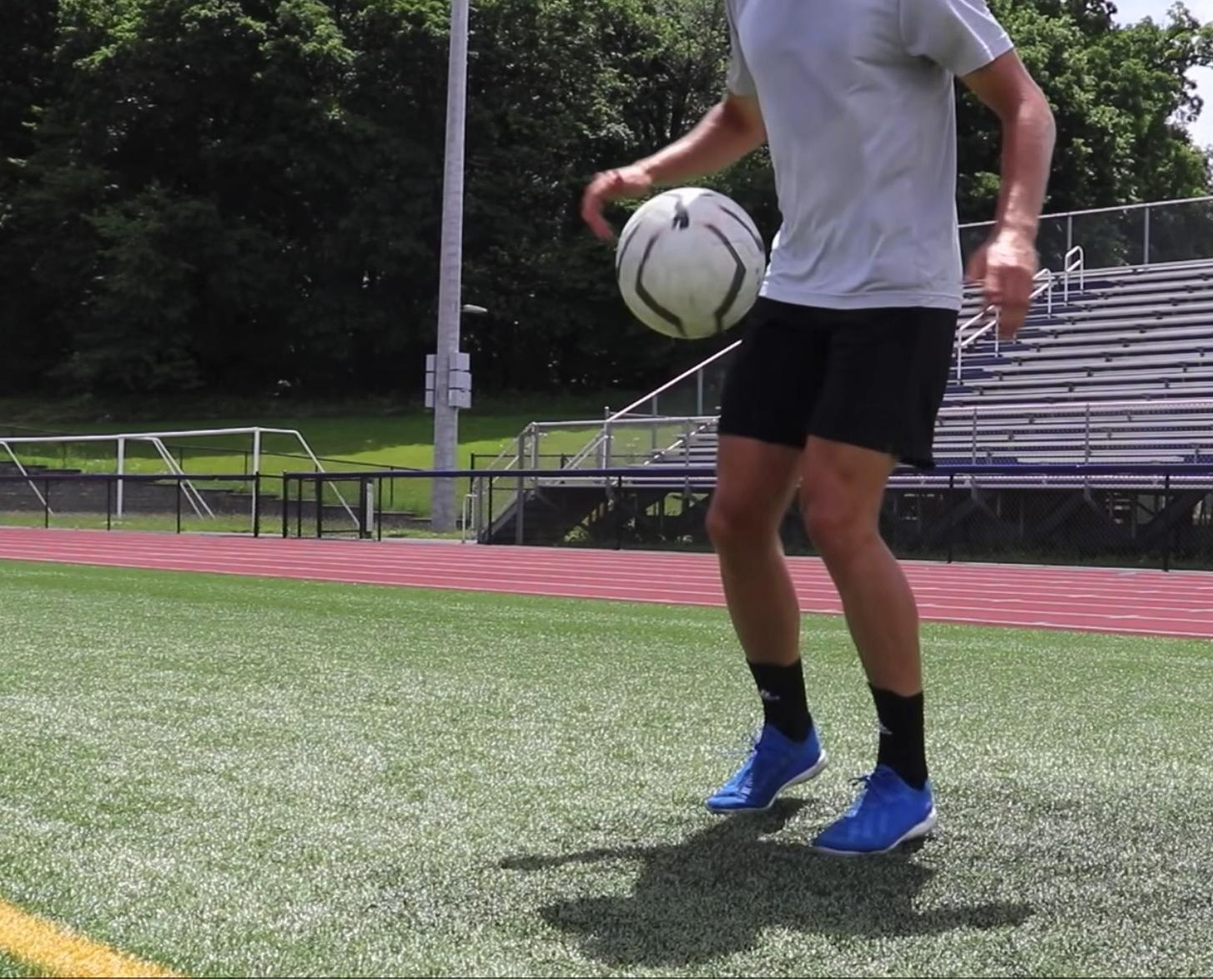ball: (615, 188, 769, 341)
foot: (699, 719, 830, 820), (815, 766, 940, 857)
person: (586, 0, 1058, 856)
